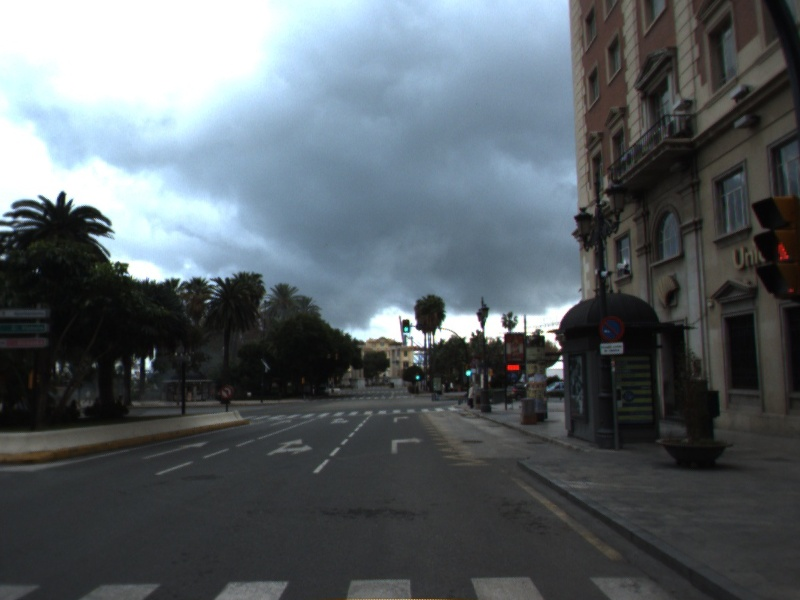RIGHT: (388, 434, 426, 457), (391, 414, 412, 424)
STRAIGHT: (139, 439, 213, 461), (268, 418, 293, 428)
STRAIGHT_RIGHT: (264, 436, 315, 457), (327, 416, 352, 426)
